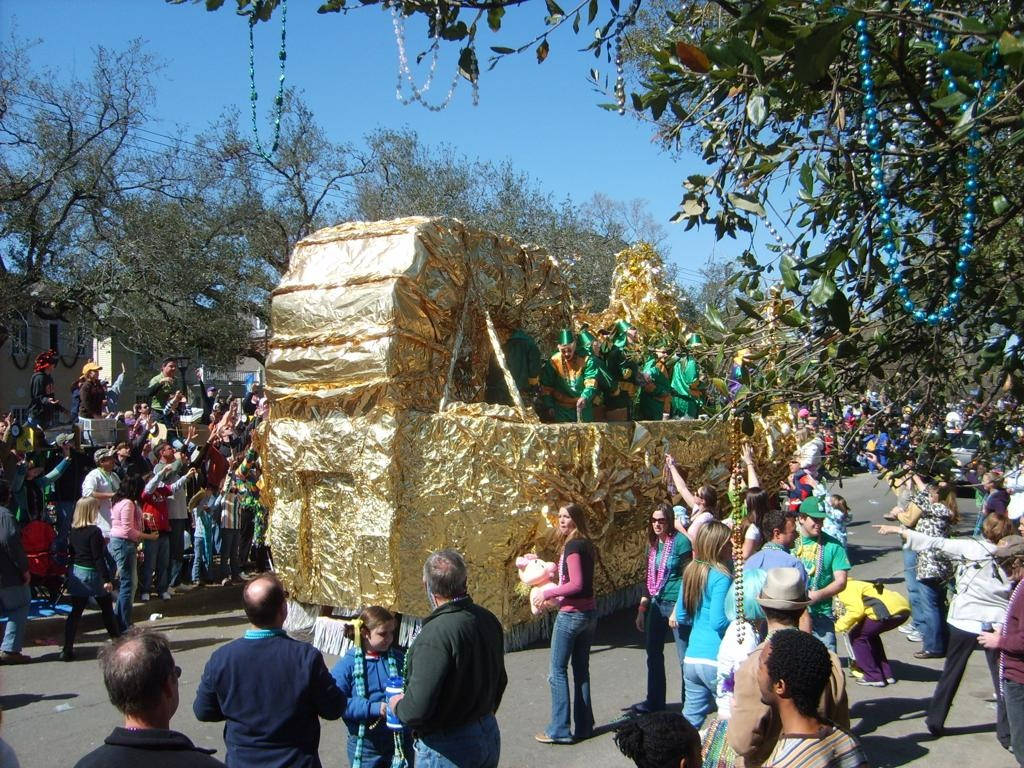human_face: (754, 638, 788, 704), (368, 620, 394, 650), (778, 520, 800, 544), (1007, 550, 1023, 580), (557, 508, 573, 534), (804, 512, 822, 534), (650, 510, 666, 534), (718, 536, 734, 558), (693, 487, 707, 505), (740, 494, 750, 514), (560, 346, 574, 360), (626, 328, 638, 344), (657, 345, 669, 361), (163, 359, 175, 375), (1016, 516, 1024, 538), (980, 476, 992, 490), (162, 444, 174, 456), (139, 438, 151, 450), (788, 460, 798, 474), (742, 352, 754, 362), (102, 455, 112, 467), (88, 366, 98, 378), (221, 425, 233, 435), (930, 488, 938, 502), (792, 435, 800, 445), (120, 446, 128, 456), (1016, 426, 1022, 438), (593, 340, 599, 352), (977, 464, 983, 475), (140, 403, 148, 411)
